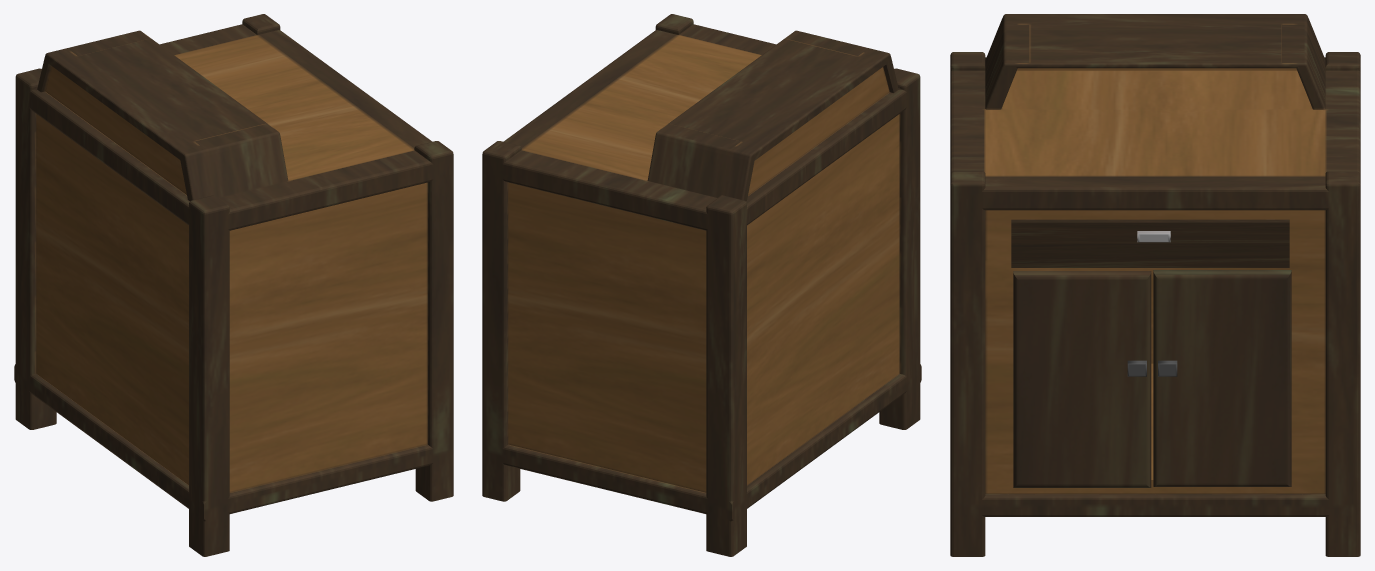
Rendered from Dresser1.fbx.
3 views of the same model, side by side, from view 1: azimuth 30°, elevation 25°; view 2: azimuth 150°, elevation 25°; view 3: azimuth 270°, elevation 25° (orthographic). The views are drawn at different scales.
Parts seen in each view (by area): view 1: Dresser1.001; view 2: Dresser1.001; view 3: Dresser1.001, Door1.002, Door1.003, DrawerDrsser1.001.
Part boxes in pixels (box(x1,y1,x2,y2)): Dresser1.001: box(14, 14, 453, 556); Dresser1.001: box(482, 14, 921, 556); Dresser1.001: box(950, 14, 1360, 556); Door1.002: box(1013, 271, 1151, 487); Door1.003: box(1153, 270, 1291, 486); DrawerDrsser1.001: box(1011, 219, 1289, 267).
Bounding box in the file's own units: 156 × 218 × 196.
